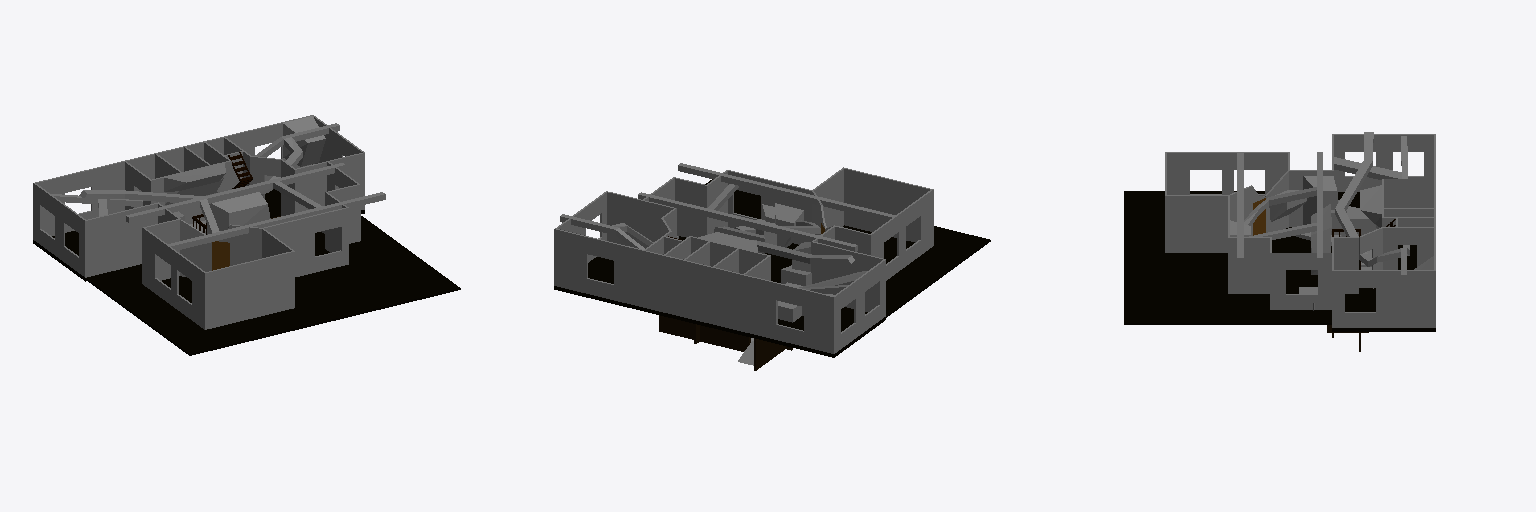
The model's file is 2_EMBLOCADO.obj.
The picture shows the model from 3 angles: view 1: azimuth 30°, elevation 25°; view 2: azimuth 150°, elevation 25°; view 3: azimuth 270°, elevation 25°; orthographic projection.
Parts seen in each view (by area): view 1: pasted__polySurface16; view 2: pasted__polySurface16; view 3: pasted__polySurface16.
Part boxes in pixels (bbox=[...]): pasted__polySurface16: bbox=[33, 115, 460, 355]; pasted__polySurface16: bbox=[554, 163, 990, 370]; pasted__polySurface16: bbox=[1124, 132, 1435, 351].
Size of the model in its own units: 16 by 6.6 by 15.